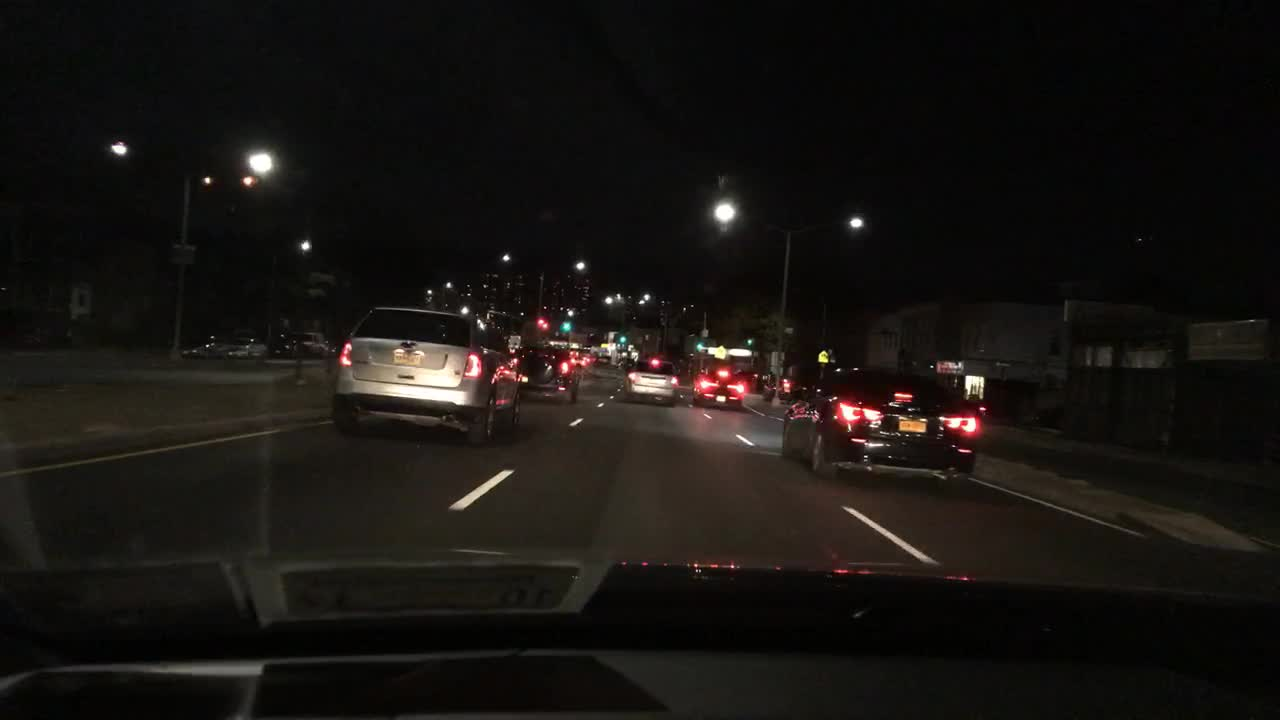bus: (450, 306, 525, 360)
car: (331, 303, 521, 439), (778, 363, 980, 484), (518, 342, 580, 401), (620, 355, 680, 404), (689, 361, 746, 404), (761, 373, 814, 403), (273, 329, 325, 354), (224, 334, 270, 358), (179, 337, 221, 357), (303, 337, 342, 358), (567, 347, 582, 369), (614, 355, 632, 373), (596, 347, 612, 366), (577, 349, 594, 366), (612, 347, 632, 355)
traffic light: (534, 315, 548, 328), (695, 337, 706, 352), (560, 321, 571, 334), (616, 334, 628, 343)
traffic sign: (172, 240, 198, 265), (816, 347, 830, 361)
